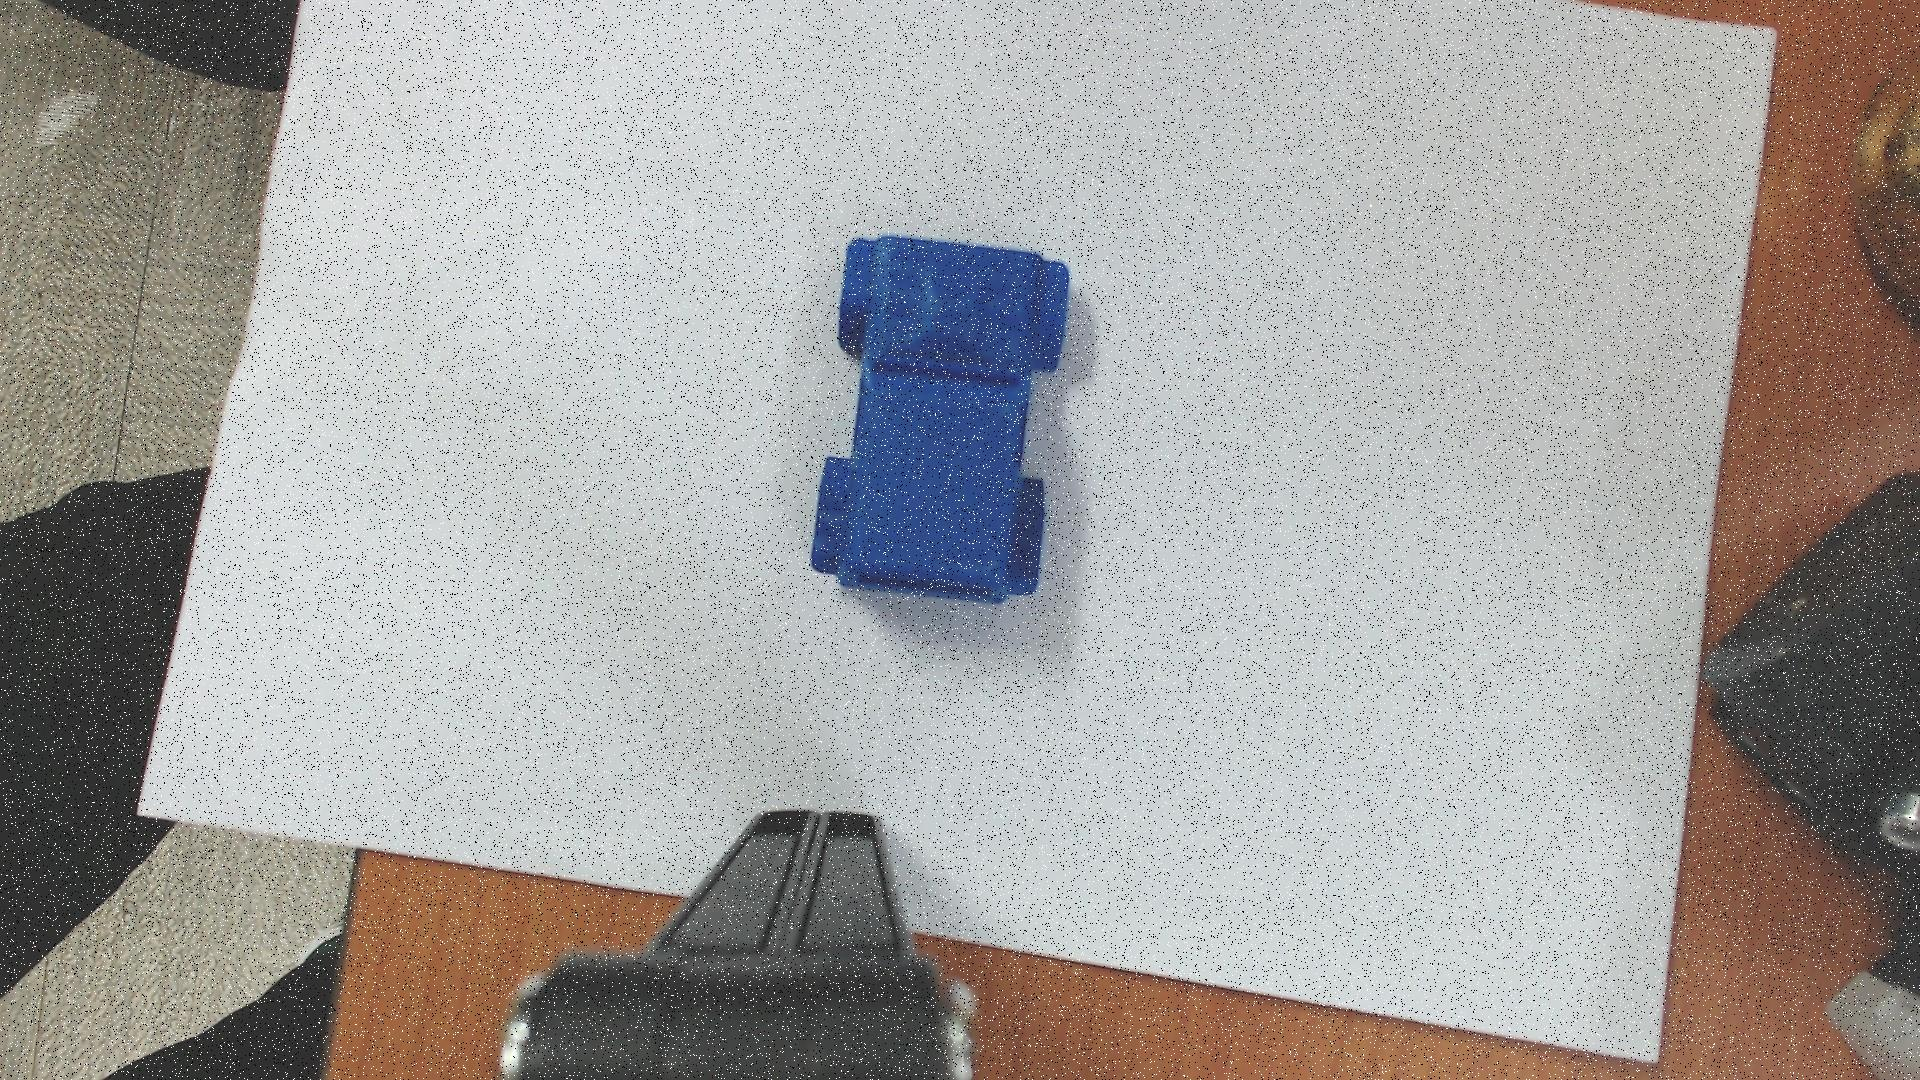Upper_ng: (812, 235, 1069, 603)
